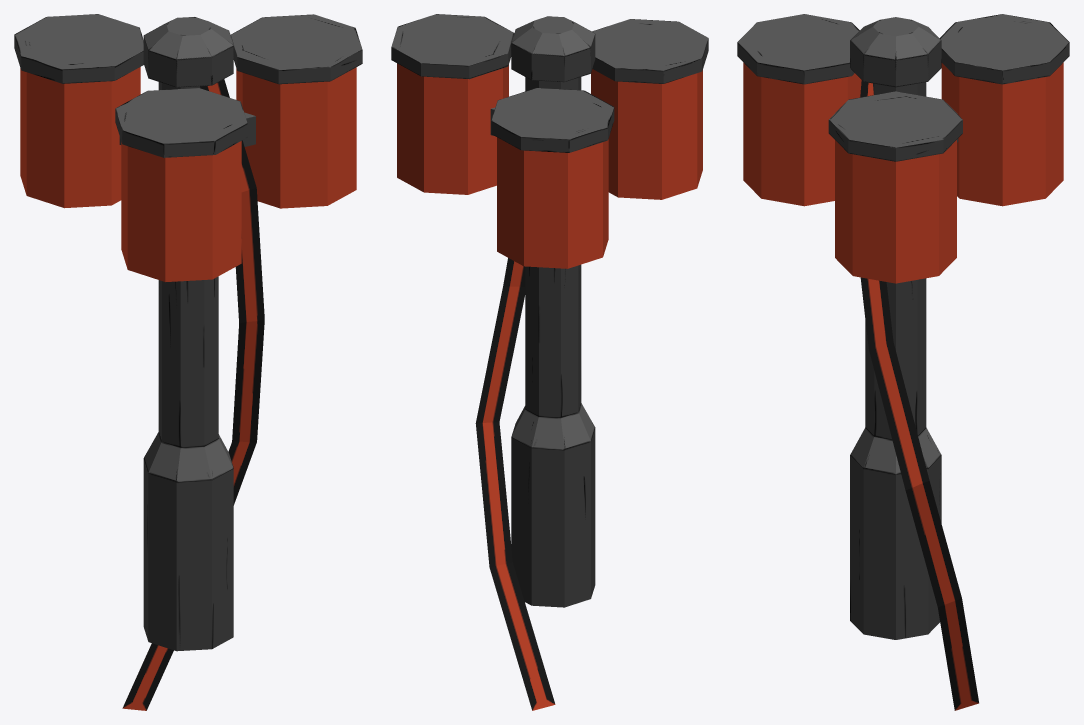
File: post.fbx
3 renders of one model, left to right at view 1: azimuth 30°, elevation 25°; view 2: azimuth 150°, elevation 25°; view 3: azimuth 270°, elevation 25°, orthographic. The views are drawn at different scales.
Visible parts, largest first — view 1: post; view 2: post; view 3: post.
Part boxes in pixels (x1,y1,x2,y2): post: [14, 14, 362, 710]; post: [391, 14, 708, 710]; post: [737, 14, 1069, 710].
Bounding box in the file's own units: 104 × 250 × 109.
